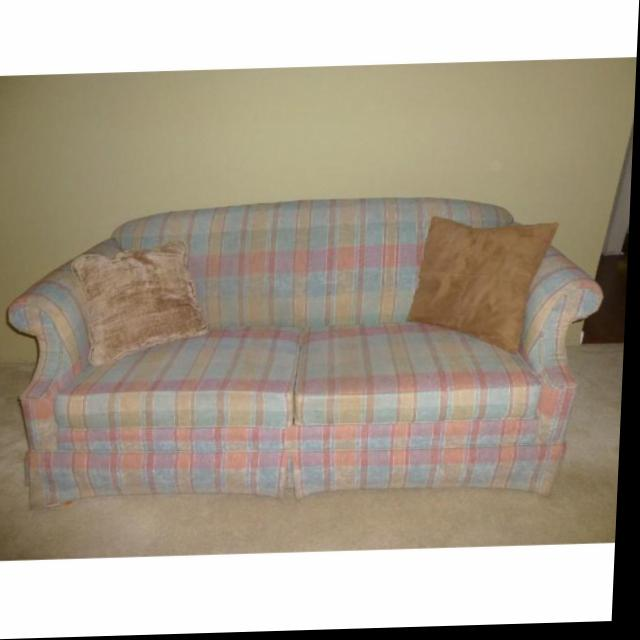Sofa: (2, 194, 609, 516)
